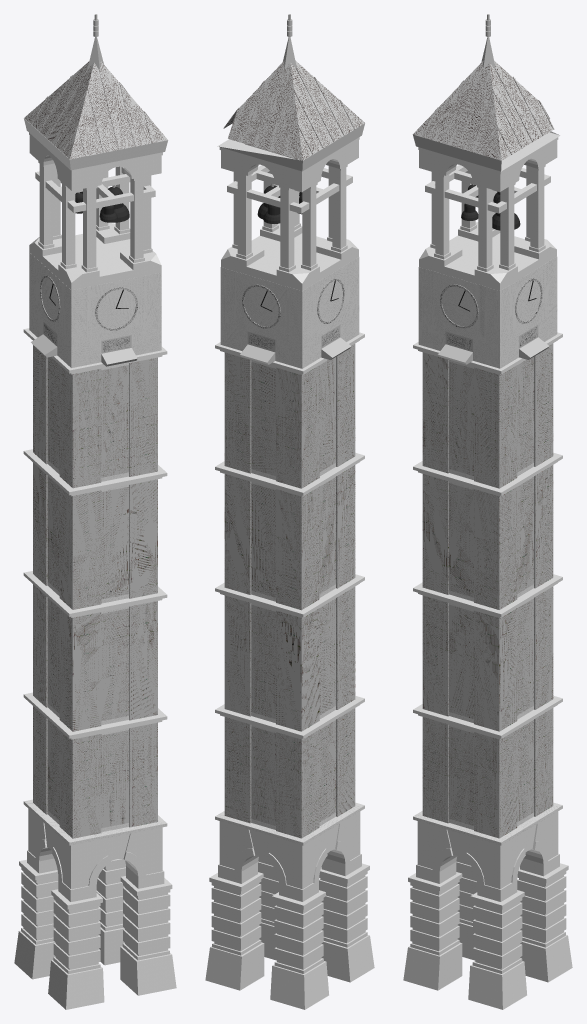
3 views of the same model, side by side, from view 1: azimuth 30°, elevation 25°; view 2: azimuth 150°, elevation 25°; view 3: azimuth 330°, elevation 25° (orthographic).
Parts seen in each view (by area): view 1: mesh55.004_mesh55-geometry, mesh55.005_mesh55-geometry, mesh55.006_mesh55-geometry, mesh67.002_mesh67-geometry, mesh123.003_mesh123-geometry, mesh84.002_mesh84-geometry, mesh1.001_mesh1-geometry, mesh138.004_mesh138-geometry, mesh125.003_mesh125-geometry, mesh139.004_mesh139-geometry, mesh25.003_mesh25-geometry, mesh17.003_mesh17-geometry (+22 smaller); view 2: mesh55.005_mesh55-geometry, mesh55.004_mesh55-geometry, mesh55.006_mesh55-geometry, mesh67.002_mesh67-geometry, mesh84.002_mesh84-geometry, mesh123.003_mesh123-geometry, mesh1.001_mesh1-geometry, mesh137.004_mesh137-geometry, mesh125.003_mesh125-geometry, mesh139.004_mesh139-geometry, mesh23.003_mesh23-geometry, mesh24.003_mesh24-geometry (+22 smaller); view 3: mesh55.005_mesh55-geometry, mesh55.004_mesh55-geometry, mesh55.006_mesh55-geometry, mesh67.002_mesh67-geometry, mesh84.002_mesh84-geometry, mesh123.003_mesh123-geometry, mesh1.001_mesh1-geometry, mesh138.004_mesh138-geometry, mesh125.003_mesh125-geometry, mesh136.003_mesh136-geometry, mesh17.003_mesh17-geometry, mesh25.003_mesh25-geometry (+22 smaller).
Boxes of the visible parts, left/top/right/bottom form: mesh55.004_mesh55-geometry: left=33, top=584, right=157, bottom=731; mesh55.005_mesh55-geometry: left=33, top=462, right=157, bottom=609; mesh55.006_mesh55-geometry: left=33, top=345, right=157, bottom=488; mesh67.002_mesh67-geometry: left=33, top=706, right=157, bottom=838; mesh123.003_mesh123-geometry: left=29, top=161, right=161, bottom=290; mesh84.002_mesh84-geometry: left=29, top=252, right=161, bottom=367; mesh1.001_mesh1-geometry: left=27, top=809, right=164, bottom=901; mesh138.004_mesh138-geometry: left=69, top=61, right=167, bottom=159; mesh125.003_mesh125-geometry: left=24, top=118, right=167, bottom=190; mesh139.004_mesh139-geometry: left=24, top=61, right=93, bottom=158; mesh25.003_mesh25-geometry: left=48, top=960, right=104, bottom=1009; mesh17.003_mesh17-geometry: left=120, top=946, right=176, bottom=995; mesh55.005_mesh55-geometry: left=224, top=465, right=355, bottom=610; mesh55.004_mesh55-geometry: left=224, top=587, right=355, bottom=731; mesh55.006_mesh55-geometry: left=224, top=344, right=355, bottom=488; mesh67.002_mesh67-geometry: left=224, top=708, right=355, bottom=838; mesh84.002_mesh84-geometry: left=220, top=257, right=359, bottom=368; mesh123.003_mesh123-geometry: left=221, top=165, right=358, bottom=290; mesh1.001_mesh1-geometry: left=218, top=811, right=361, bottom=901; mesh137.004_mesh137-geometry: left=228, top=61, right=302, bottom=160; mesh125.003_mesh125-geometry: left=217, top=123, right=364, bottom=191; mesh139.004_mesh139-geometry: left=290, top=60, right=364, bottom=160; mesh23.003_mesh23-geometry: left=270, top=961, right=328, bottom=1009; mesh24.003_mesh24-geometry: left=205, top=942, right=264, bottom=990; mesh55.005_mesh55-geometry: left=422, top=465, right=553, bottom=609; mesh55.004_mesh55-geometry: left=422, top=586, right=553, bottom=731; mesh55.006_mesh55-geometry: left=422, top=343, right=553, bottom=488; mesh67.002_mesh67-geometry: left=422, top=708, right=553, bottom=838; mesh84.002_mesh84-geometry: left=418, top=257, right=557, bottom=368; mesh123.003_mesh123-geometry: left=419, top=165, right=556, bottom=290; mesh1.001_mesh1-geometry: left=416, top=811, right=559, bottom=901; mesh138.004_mesh138-geometry: left=413, top=61, right=501, bottom=160; mesh125.003_mesh125-geometry: left=413, top=106, right=560, bottom=191; mesh136.003_mesh136-geometry: left=489, top=60, right=554, bottom=160; mesh17.003_mesh17-geometry: left=468, top=961, right=526, bottom=1009; mesh25.003_mesh25-geometry: left=403, top=942, right=462, bottom=990.
Size of the model in its own units: 0.1225 by 0.9848 by 0.1229.
